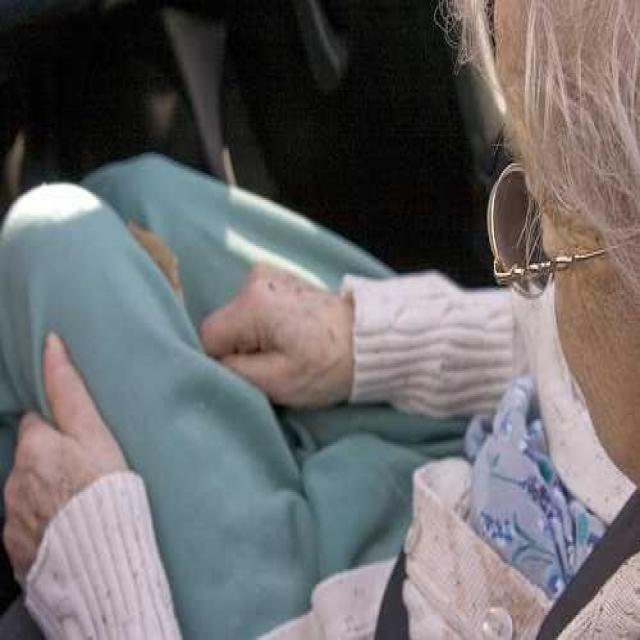seatbelt: (514, 498, 628, 640)
